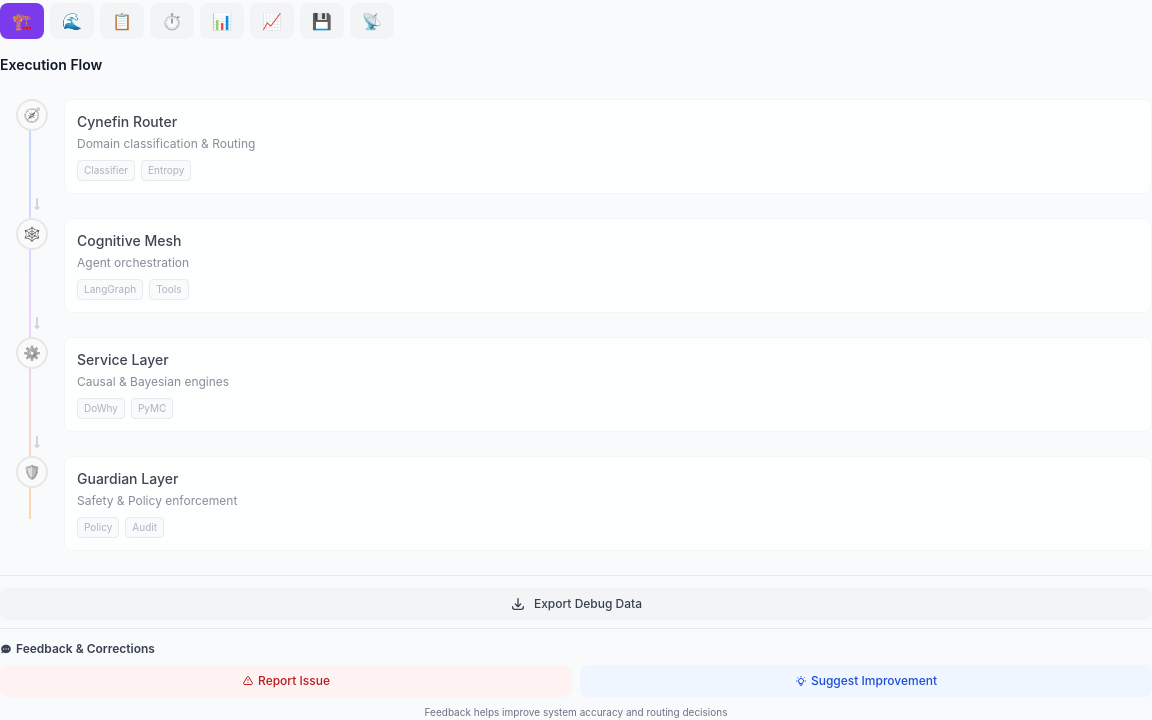
Scenario: DeveloperView › Suggest Improvements modal (5D) › closes modal when Cancel is clicked
(page scrolled)
Click the button with test id "suggest-improvement-btn": point(866, 681) left=580, top=665, right=1151, bottom=697
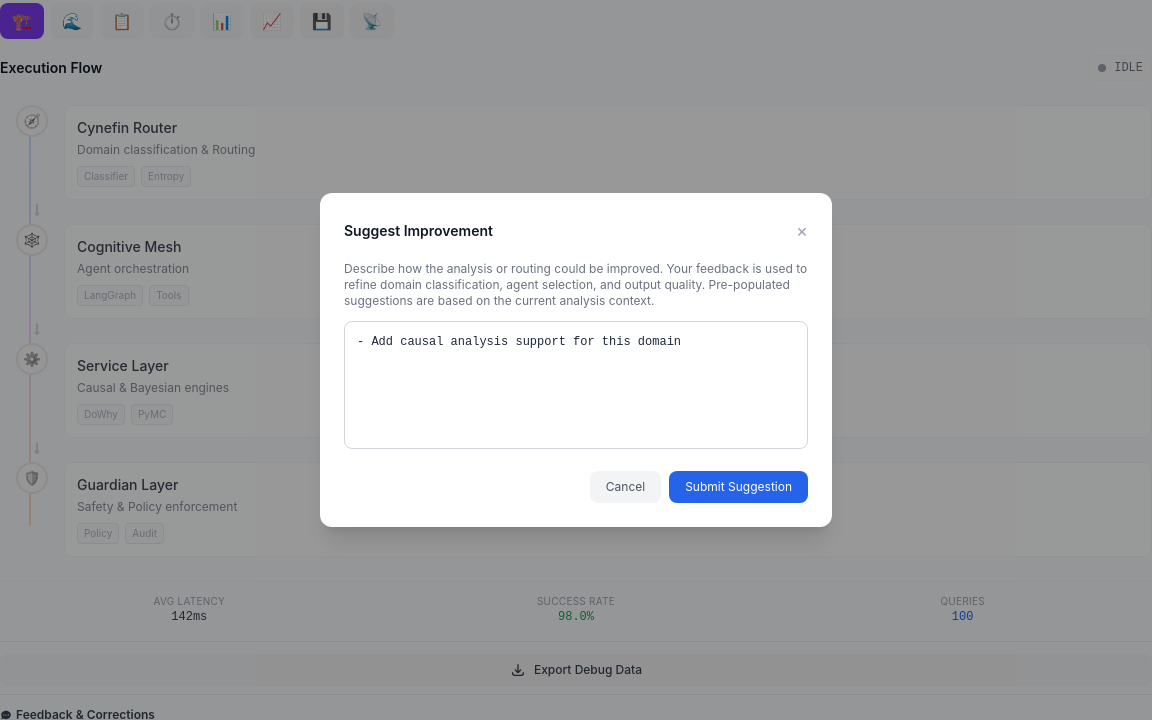
expect the element with test id "improvement-modal" is shown: met
Click the button "Cancel": point(626, 487) left=590, top=471, right=661, bottom=503
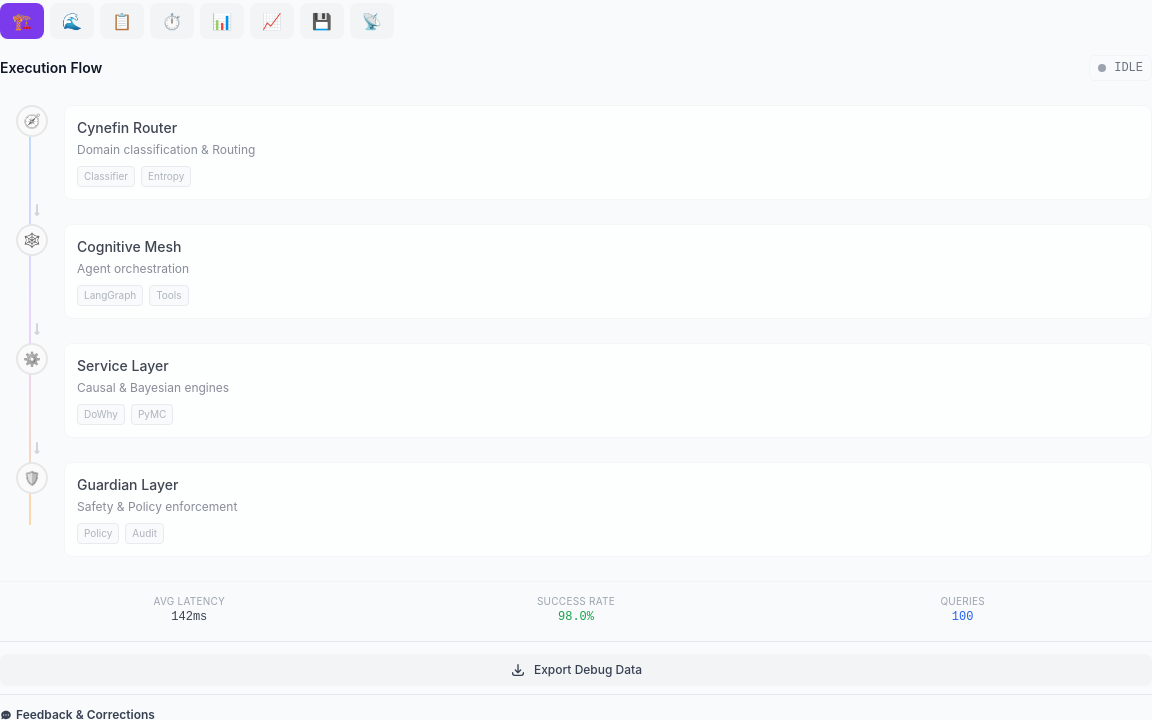
expect the element with test id "improvement-modal" is gone: met
